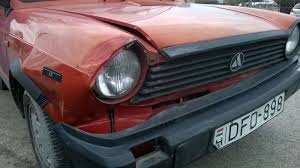Dent: (20, 19, 166, 133)
